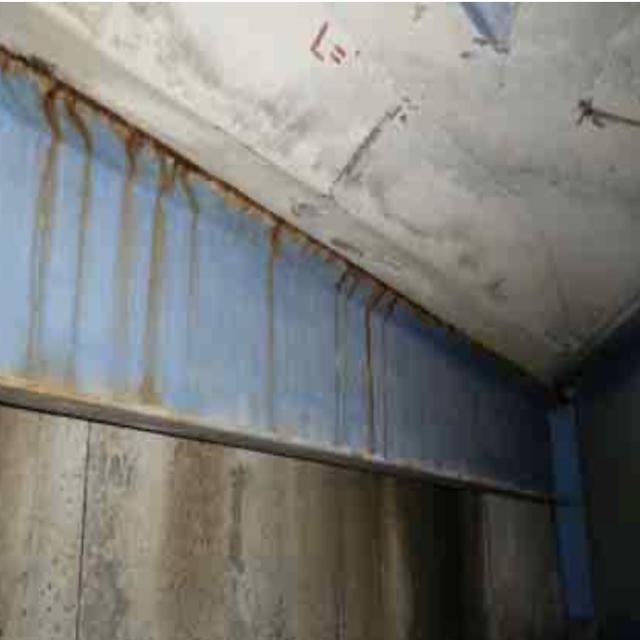corrosion: (15, 56, 208, 434), (323, 260, 403, 473), (257, 222, 296, 452)
